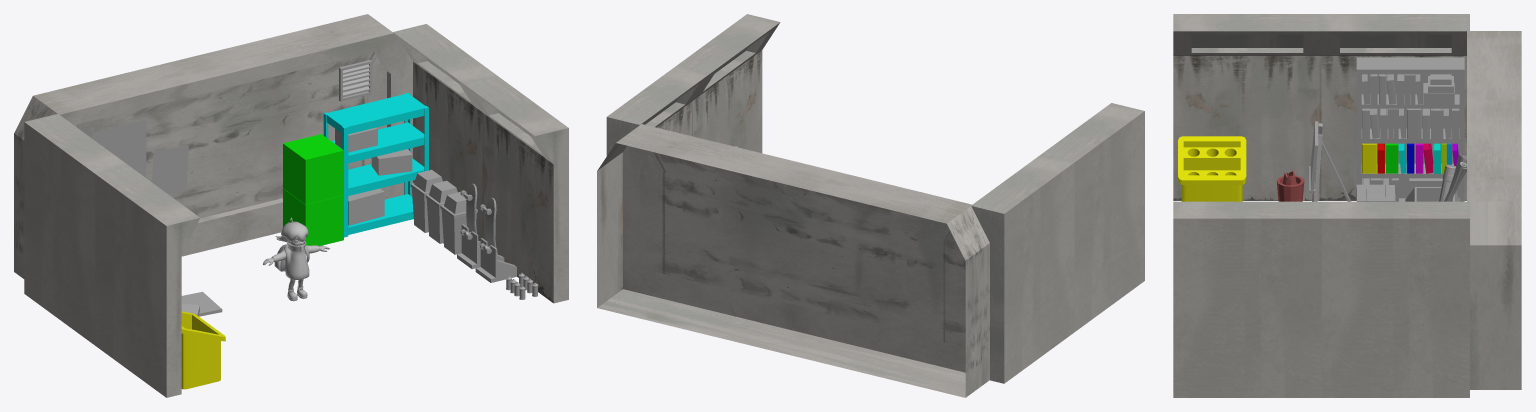
File: secretbase_map.fbx
The picture shows the model from 3 angles, left to right: view 1: azimuth 30°, elevation 25°; view 2: azimuth 150°, elevation 25°; view 3: azimuth 270°, elevation 25°; orthographic projection. The views are drawn at different scales.
Parts seen in each view (by area): view 1: Box069, wall_007 (×2), wall_008 (×2), speedrack, locker1, umstand, locker2, pCube17 (×3), post1, boardcase (×2), post2, pCube18 (×3) (+7 smaller); view 2: Box069, wall_007 (×2), wall_008 (×2); view 3: wall_007 (×2), wall_008 (×2), Box069, polySurface1, umstand, chair, easel, pCylinder1, box, book1, pCube29, pCube50 (+5 smaller).
Boxes of the visible parts, x1,y1,x2,y2 form: Box069: (14,14,412,278); wall_007 (×2): (95,76,568,397); wall_008 (×2): (24,24,497,345); speedrack: (323,92,428,237); locker1: (283,134,343,204); umstand: (181,311,225,389); locker2: (283,188,343,246); pCube17 (×3): (411,187,476,254); post1: (92,120,146,177); boardcase (×2): (457,224,516,282); post2: (152,145,188,193); pCube18 (×3): (410,169,477,218); Box069: (597,124,989,397); wall_007 (×2): (677,14,1144,331); wall_008 (×2): (606,65,1074,383); wall_007 (×2): (1173,14,1321,397); wall_008 (×2): (1321,14,1469,397); Box069: (1467,31,1521,389); polySurface1: (1356,57,1464,201); umstand: (1178,136,1246,201); chair: (1356,184,1395,201); easel: (1309,123,1351,201); pCylinder1: (1276,175,1304,201); box: (1405,187,1459,201); book1: (1362,143,1376,173); pCube29: (1407,108,1421,138); pCube50: (1423,83,1454,104).
Size of the model in its own units: 9.8 by 4.01 by 7.04.
